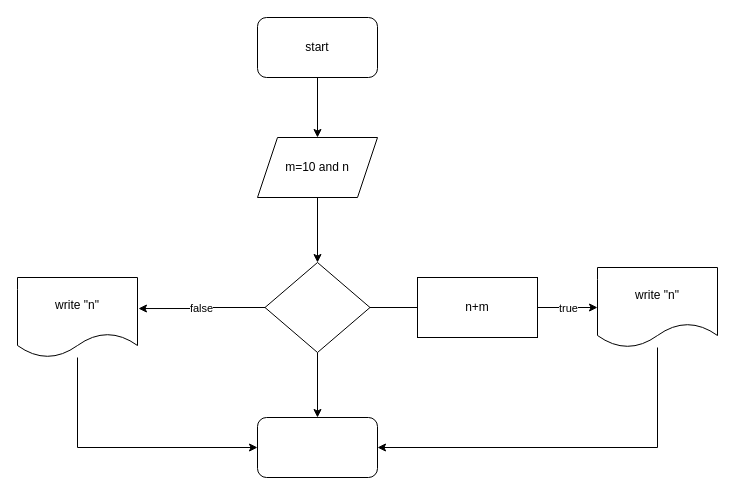
This 735x495 diagram has some shape labels left out. The centre of each missing label's shape, as x and y in pixels:
"end" goes at [317,447].
"n % 2 ==1" goes at [317,307].
